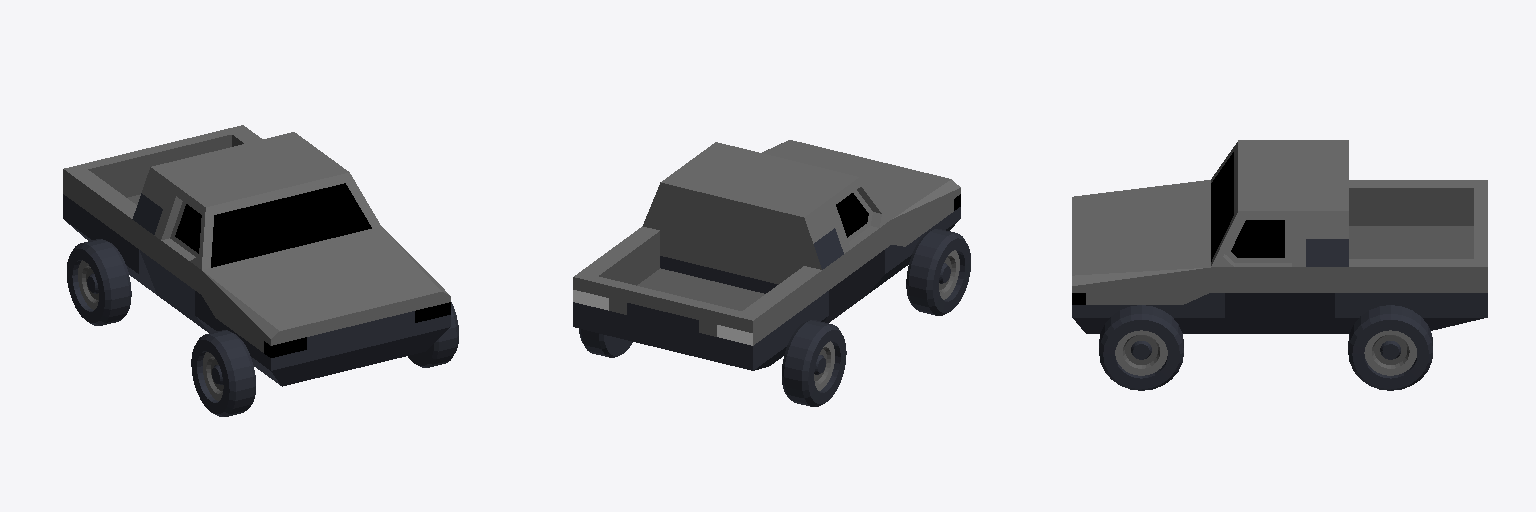
Rendered from Car01.obj.
3 renders of one model, left to right at view 1: azimuth 30°, elevation 25°; view 2: azimuth 150°, elevation 25°; view 3: azimuth 270°, elevation 25°, orthographic.
Parts seen in each view (by area): view 1: mergedBlocks; view 2: mergedBlocks; view 3: mergedBlocks.
Part boxes in pixels (x1,y1,x2,y2): mergedBlocks: (63, 125, 458, 416); mergedBlocks: (573, 140, 970, 406); mergedBlocks: (1072, 140, 1487, 390).
Size of the model in its own units: 1.92 by 1.29 by 3.